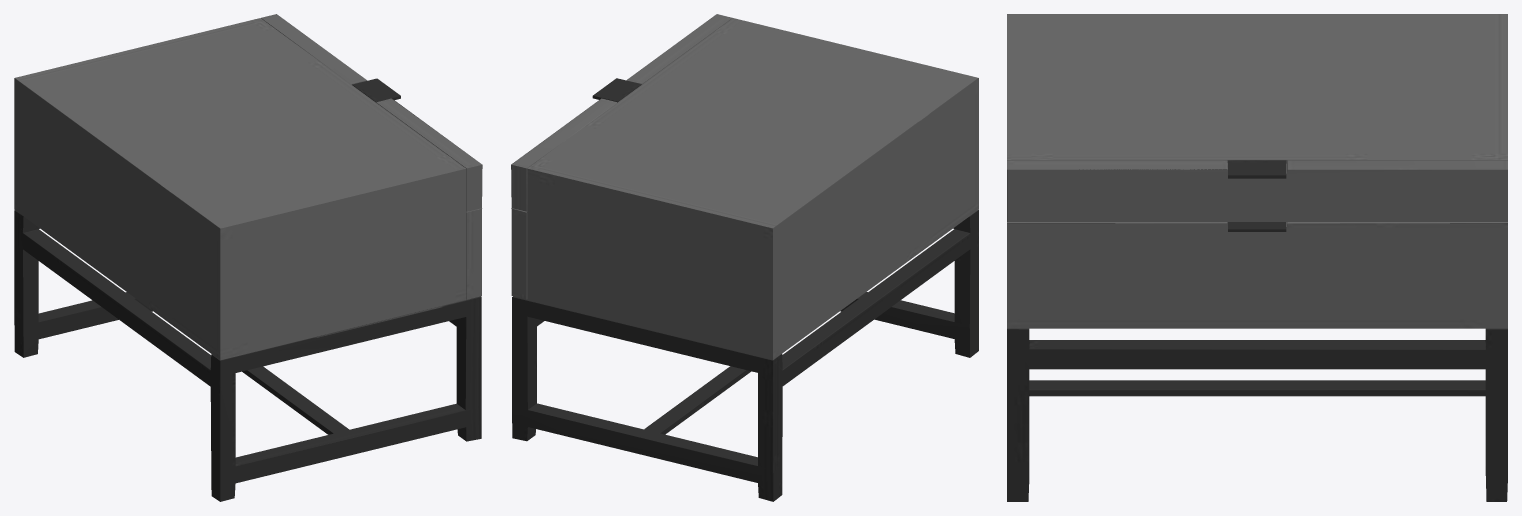
Rendered from Cupboard0011.obj.
3 renders of one model, left to right at view 1: azimuth 30°, elevation 25°; view 2: azimuth 150°, elevation 25°; view 3: azimuth 270°, elevation 25°, orthographic. The views are drawn at different scales.
Bounding box in the file's own units: 0.519 × 0.499 × 0.68.
1 material, 1 textured.
